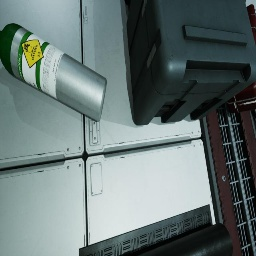0: (0, 23, 107, 122)
FirstAidBox ,: (226, 4, 256, 113)
